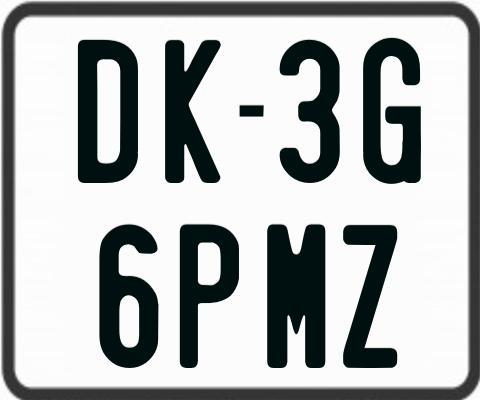3: (278, 39, 344, 183)
6: (99, 221, 161, 371)
D: (78, 38, 144, 182)
G: (363, 36, 421, 182)
K: (162, 39, 223, 186)
M: (264, 221, 326, 370)
P: (180, 221, 245, 365)
Z: (343, 223, 399, 372)
